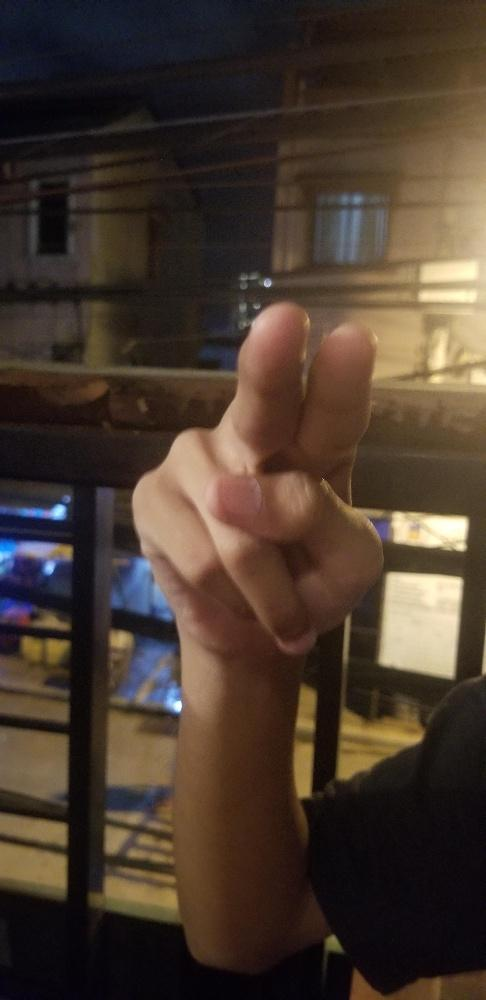n: (128, 303, 385, 656)
